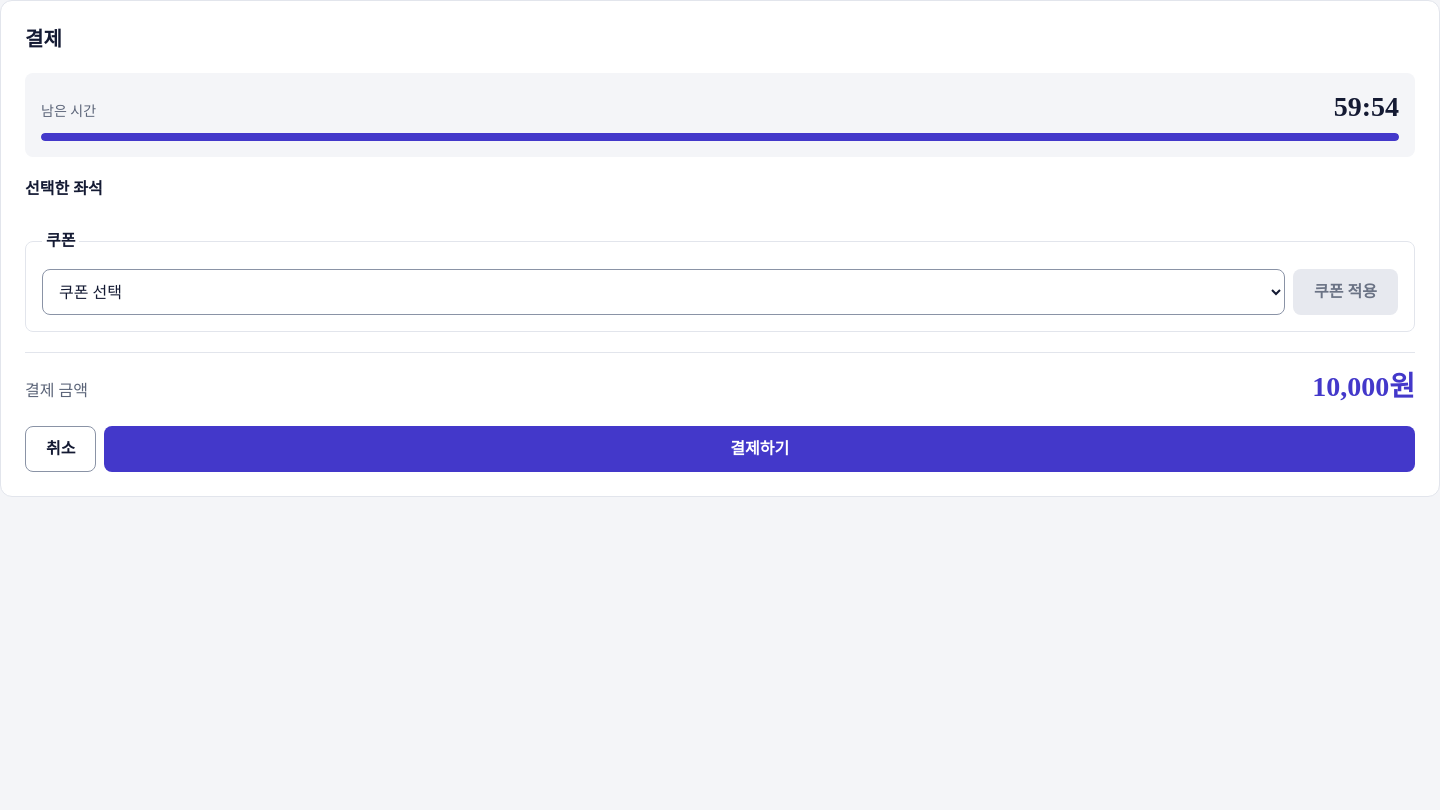
Test case: 결제 화면 쿠폰 › 결과 조회 중 쿠폰을 해제하면 늦은 조회 응답이 와도 정가로 결제할 수 있다
This screenshot has width=1440, height=810.
Select "1000원 쿠폰" in the dropdown named "쿠폰 선택" at (664, 292), box [42,269,1285,315]
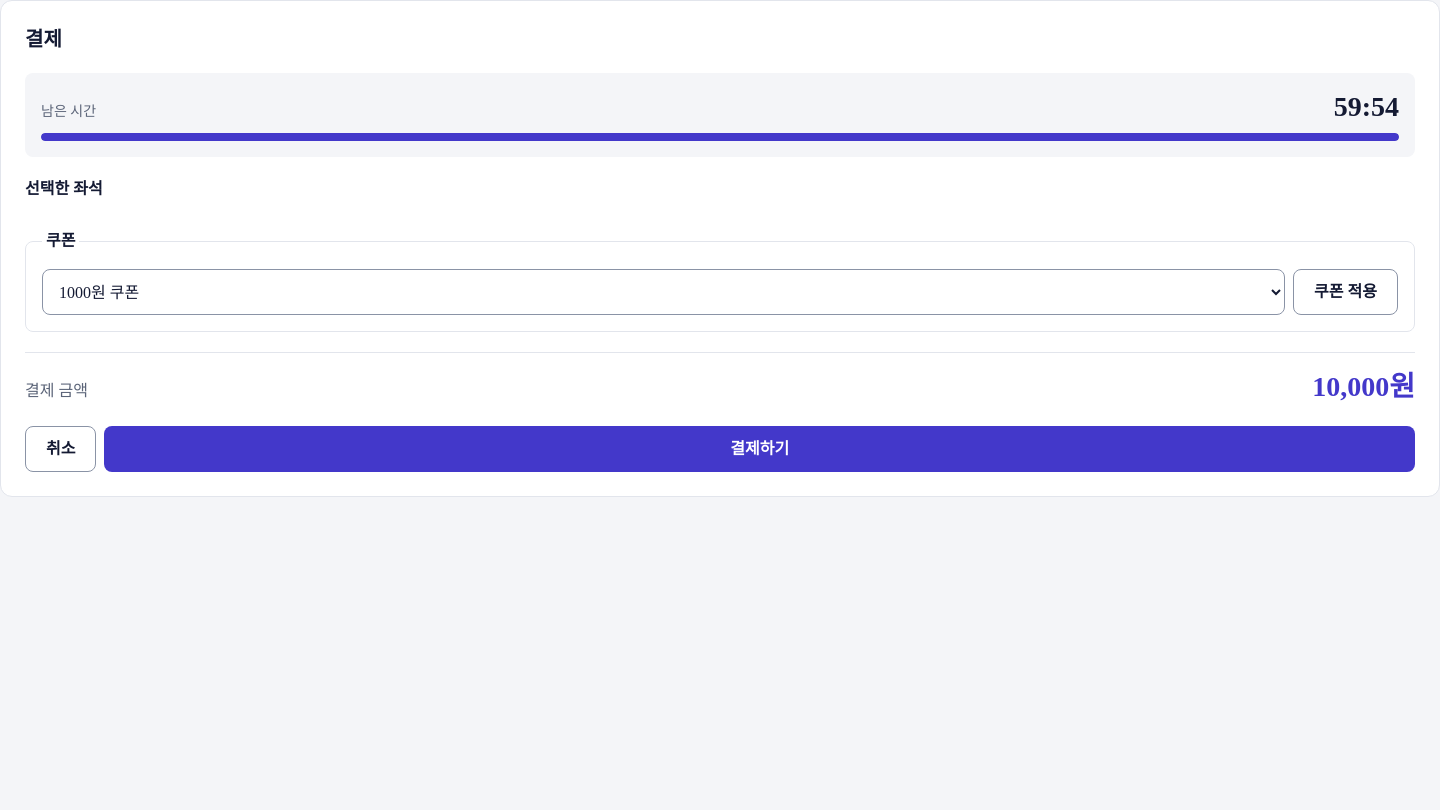
Click the button "쿠폰 적용" at (1346, 292), box [1293,269,1398,315]
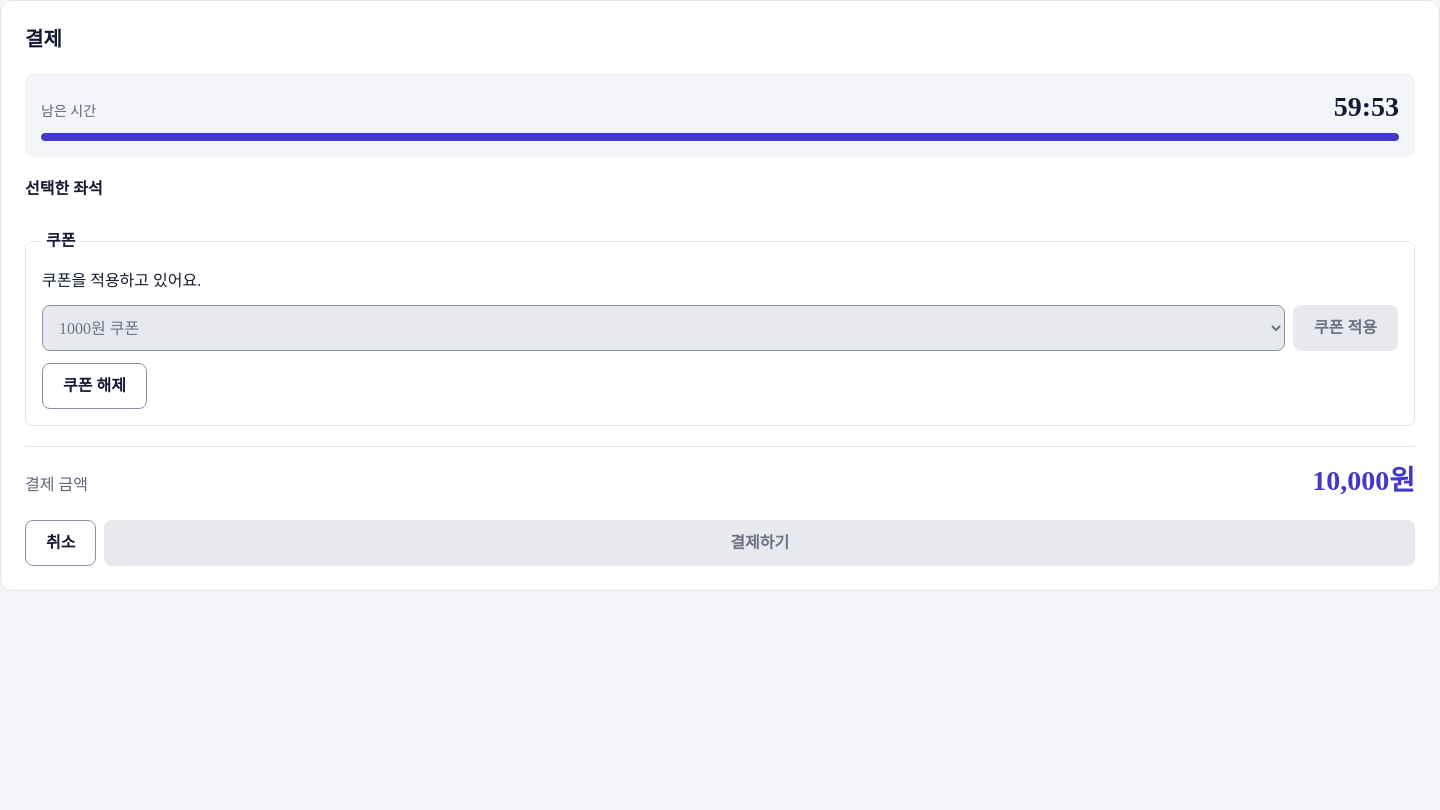
Expected: the button "쿠폰 해제" is enabled
Expected: the button "쿠폰 적용" is disabled, [1293,305,1398,351]
Click the button "쿠폰 해제" at (94, 386), box [42,363,147,409]
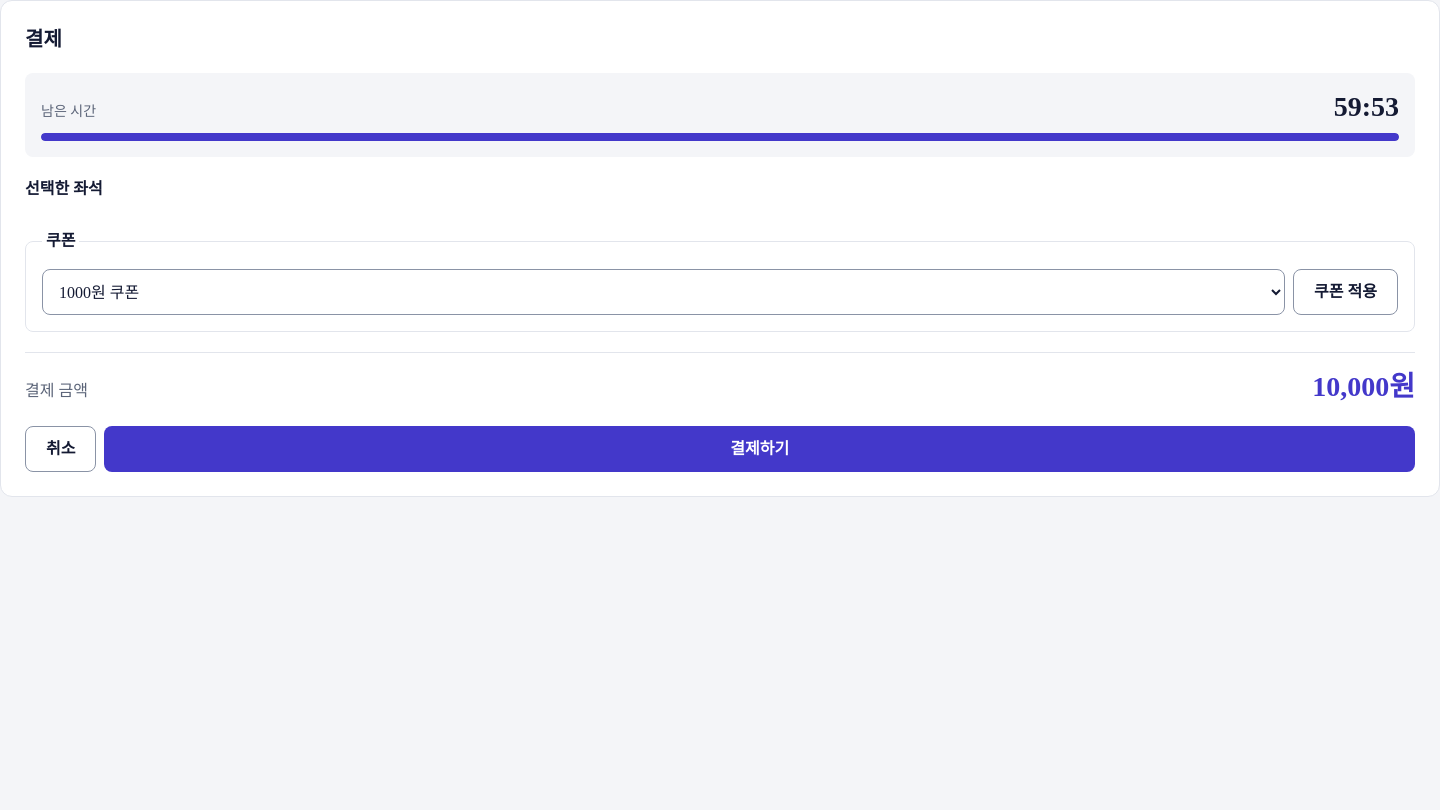
Expected: the text with test id "payable-amount" reads "10,000원", [1312,369,1415,406]
Expected: the button "쿠폰 해제" is gone
Expected: the button "결제하기" is enabled, [104,426,1415,472]
